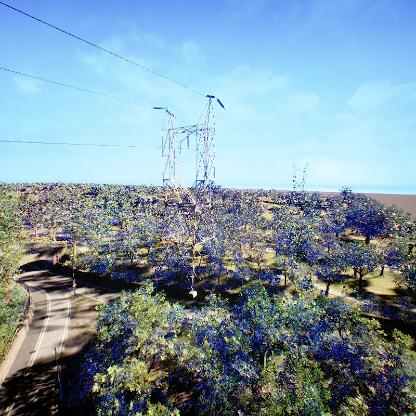tower: (148, 92, 235, 298)
